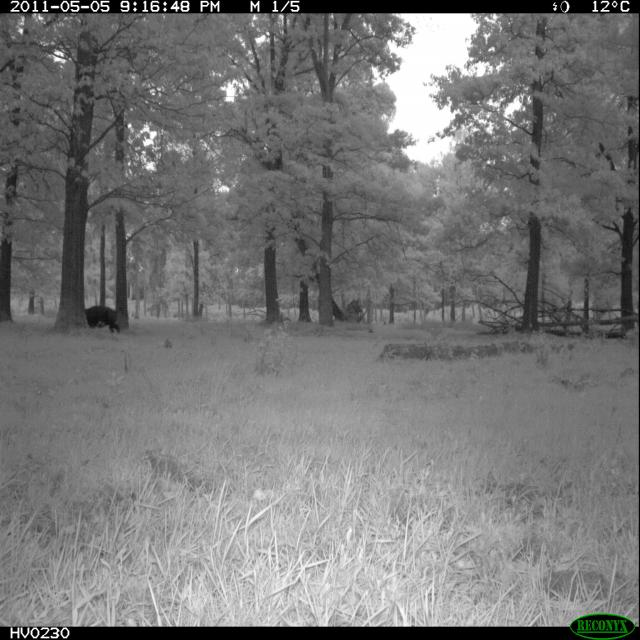boar: (71, 287, 136, 342)
